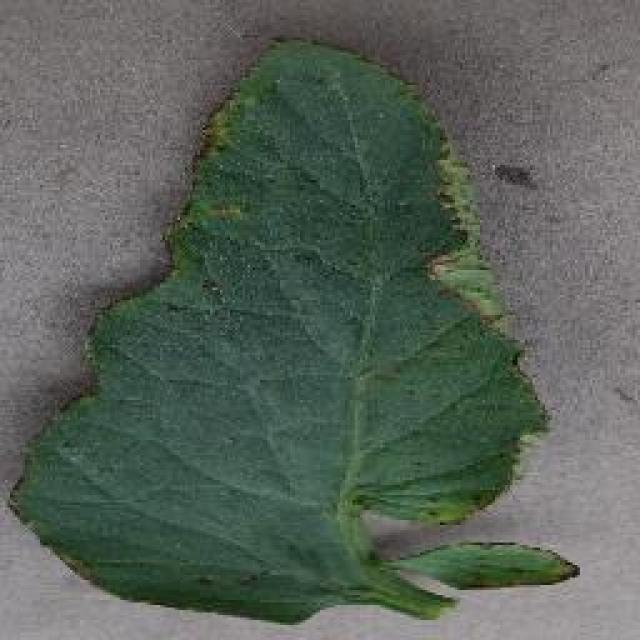Tomato___Bacterial_spot: (4, 37, 586, 624)
